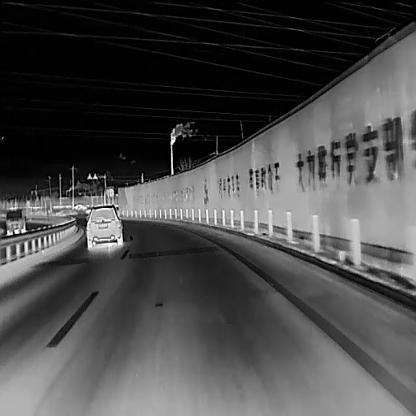car: (85, 203, 122, 249), (4, 208, 27, 233)
